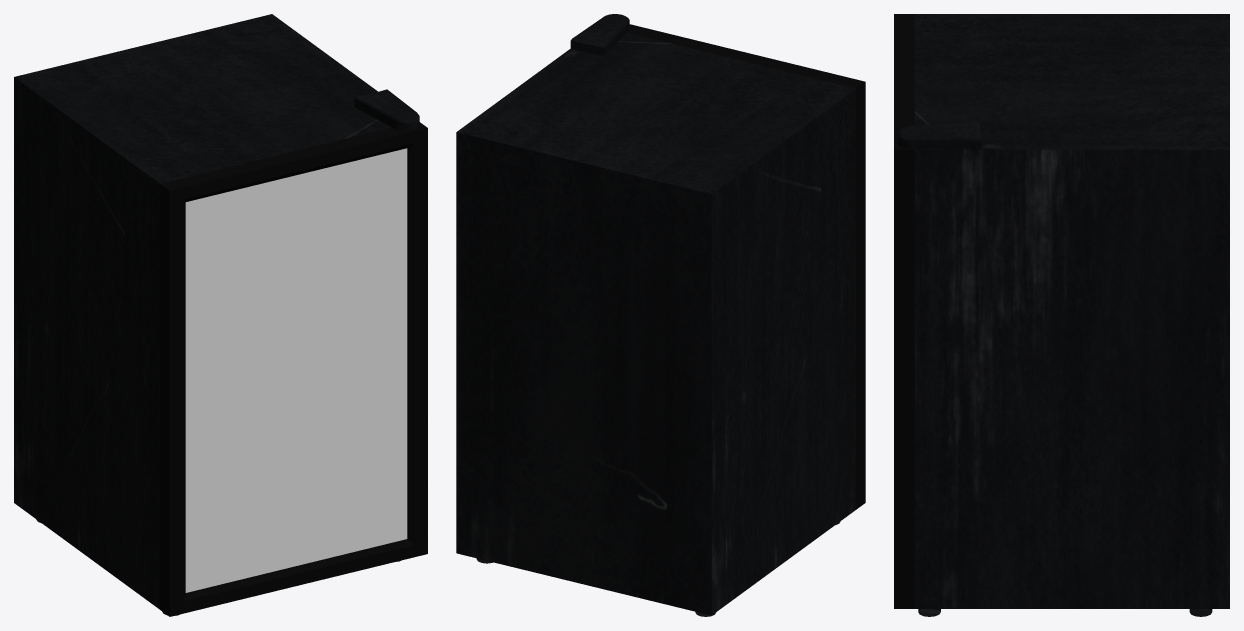
File: MiniFridge_Visual.fbx
The picture shows the model from 3 angles, left to right: view 1: azimuth 30°, elevation 25°; view 2: azimuth 150°, elevation 25°; view 3: azimuth 270°, elevation 25°; orthographic projection. The views are drawn at different scales.
Visible parts, largest first — view 1: MiniFridge_Door, MiniFridge_Body; view 2: MiniFridge_Body, MiniFridge_Door; view 3: MiniFridge_Body, MiniFridge_Door.
Boxes of the visible parts, left/top/right/bottom form: MiniFridge_Door: left=160, top=122, right=427, bottom=616; MiniFridge_Body: left=14, top=14, right=419, bottom=615; MiniFridge_Body: left=456, top=14, right=856, bottom=616; MiniFridge_Door: left=627, top=24, right=865, bottom=509; MiniFridge_Body: left=897, top=14, right=1229, bottom=616; MiniFridge_Door: left=894, top=14, right=914, bottom=608.
Bounding box in the file's own units: 48.67 × 80.64 × 50.85.
3 materials, 2 textured.
